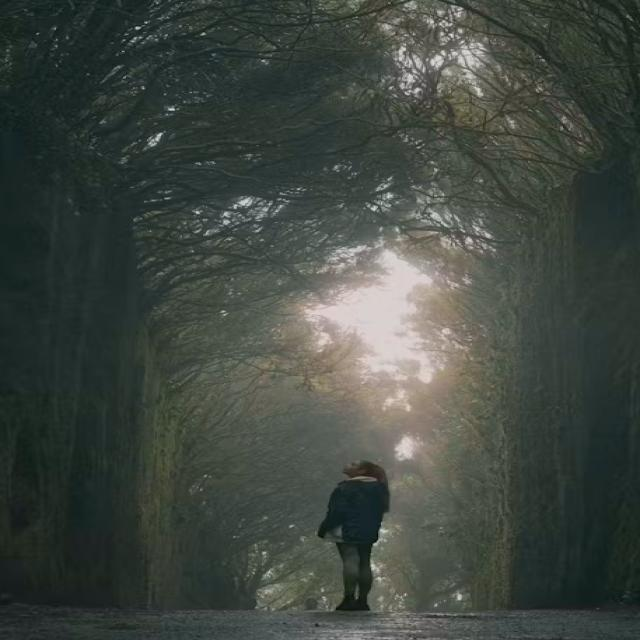Edited images: (283, 440, 441, 628)
